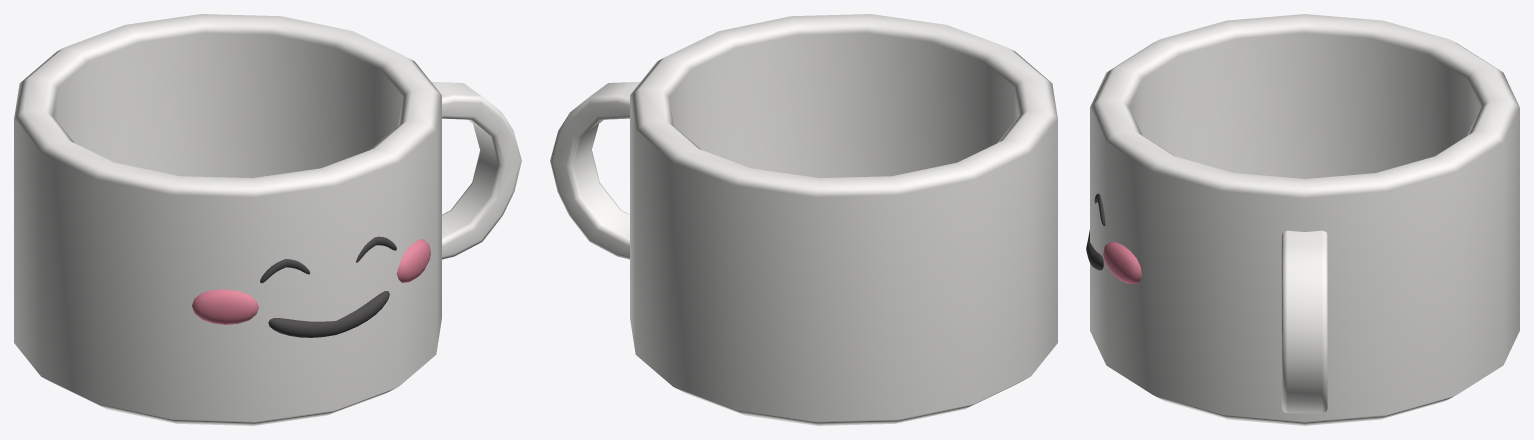
The model's file is Cup_1.glb.
The picture shows the model from 3 angles, left to right: view 1: azimuth 30°, elevation 25°; view 2: azimuth 150°, elevation 25°; view 3: azimuth 270°, elevation 25°; orthographic projection.
Visible parts, largest first — view 1: Cup_1; view 2: Cup_1; view 3: Cup_1.
Boxes of the visible parts, x1,y1,x2,y2 form: Cup_1: (14, 14, 521, 425); Cup_1: (550, 14, 1057, 425); Cup_1: (1086, 14, 1519, 425).
Bounding box in the file's own units: 0.2517 × 0.1238 × 0.2013.
1 material, 1 textured.
